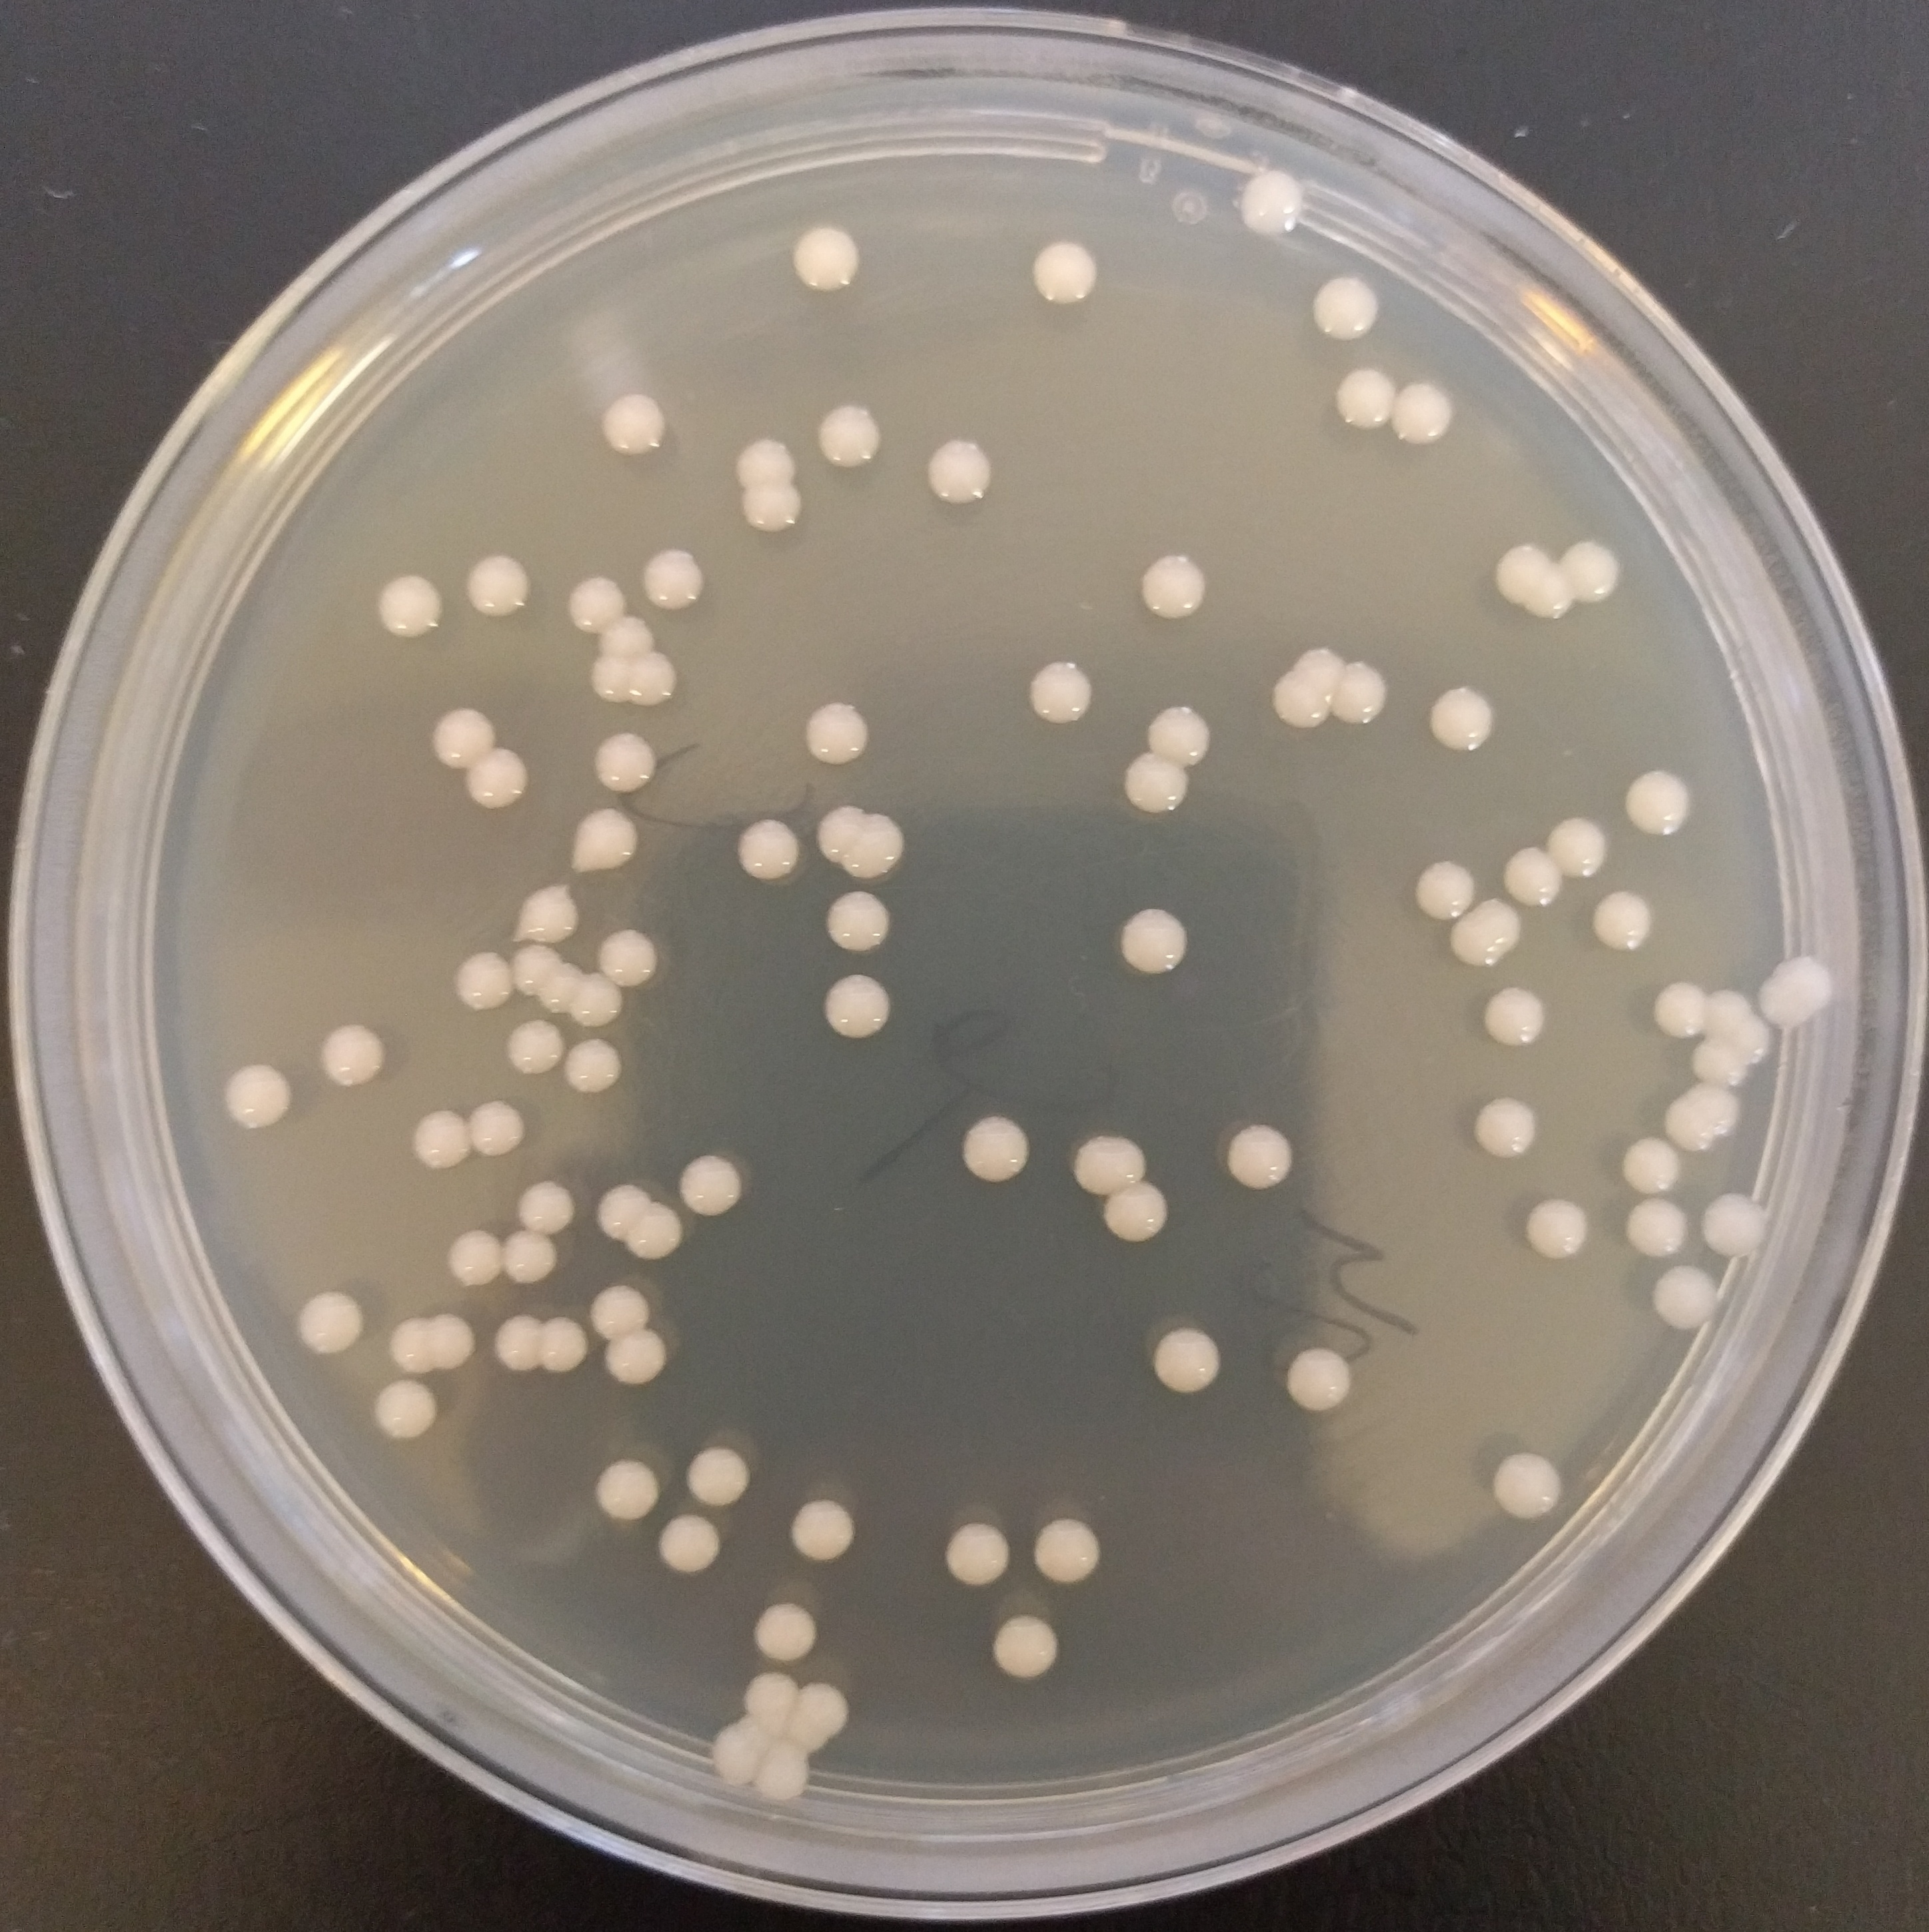sp13: (1143, 1317, 1231, 1395), (1134, 547, 1214, 629), (1424, 678, 1500, 763), (1756, 955, 1841, 1031), (1486, 1445, 1567, 1522), (786, 221, 867, 297), (784, 1491, 862, 1568), (1023, 238, 1104, 313), (1646, 1264, 1728, 1339), (219, 1060, 299, 1134), (288, 1289, 373, 1358), (1447, 895, 1524, 970), (961, 1111, 1035, 1189), (920, 434, 1000, 507), (823, 966, 896, 1045), (811, 403, 887, 477), (373, 567, 447, 643), (1118, 904, 1194, 978), (989, 1611, 1065, 1685), (461, 551, 541, 622), (1222, 1121, 1297, 1196), (1698, 1189, 1772, 1263), (1620, 766, 1692, 842), (1470, 1088, 1546, 1160), (588, 1453, 664, 1526), (1021, 657, 1099, 728), (1032, 1512, 1102, 1589), (747, 1596, 827, 1665), (1558, 533, 1622, 618), (1237, 164, 1309, 238), (735, 814, 811, 885), (1120, 747, 1192, 819), (821, 885, 896, 955), (1586, 887, 1660, 957), (567, 805, 645, 872), (371, 1376, 443, 1446), (318, 1023, 392, 1091), (586, 731, 664, 796), (1139, 699, 1217, 765), (1332, 360, 1396, 440), (1282, 1342, 1353, 1413), (1309, 272, 1383, 339), (1070, 1130, 1146, 1196), (1097, 1180, 1173, 1245), (599, 389, 668, 459), (638, 544, 708, 613), (654, 1508, 724, 1577), (943, 1519, 1010, 1591), (410, 1106, 472, 1183), (459, 745, 528, 814), (427, 705, 498, 772), (1500, 839, 1567, 909), (1261, 671, 1332, 738), (465, 1095, 530, 1167), (442, 1222, 507, 1294), (1620, 1197, 1692, 1263), (677, 1153, 747, 1219), (511, 881, 585, 943), (1652, 1093, 1719, 1160), (804, 699, 873, 765), (1542, 814, 1607, 883), (1394, 378, 1457, 449), (1408, 860, 1479, 924), (450, 947, 514, 1017), (602, 1326, 678, 1385), (1487, 539, 1553, 606), (1523, 1196, 1590, 1261), (595, 927, 666, 989), (496, 1224, 562, 1289), (620, 1199, 689, 1261), (733, 486, 809, 540), (1484, 985, 1549, 1049), (564, 1035, 629, 1098), (1650, 977, 1706, 1049), (594, 1180, 655, 1245), (567, 570, 625, 639), (1332, 657, 1390, 726), (503, 1017, 572, 1075), (507, 1178, 579, 1233), (495, 1310, 546, 1385), (684, 1445, 751, 1501), (708, 1718, 761, 1789), (511, 940, 571, 1001), (1620, 1136, 1682, 1196), (588, 1284, 654, 1340), (754, 1740, 809, 1805), (731, 436, 798, 489), (1526, 560, 1579, 627), (1675, 1083, 1749, 1130), (622, 653, 680, 712), (592, 616, 664, 662), (571, 971, 624, 1031), (429, 1310, 480, 1372), (1685, 1042, 1754, 1088), (541, 1314, 588, 1379), (798, 1676, 855, 1731), (385, 1312, 431, 1379), (820, 800, 866, 865), (532, 957, 583, 1014), (1703, 984, 1752, 1040), (740, 1669, 800, 1713), (1291, 643, 1346, 691), (588, 657, 636, 708), (864, 809, 906, 864)
